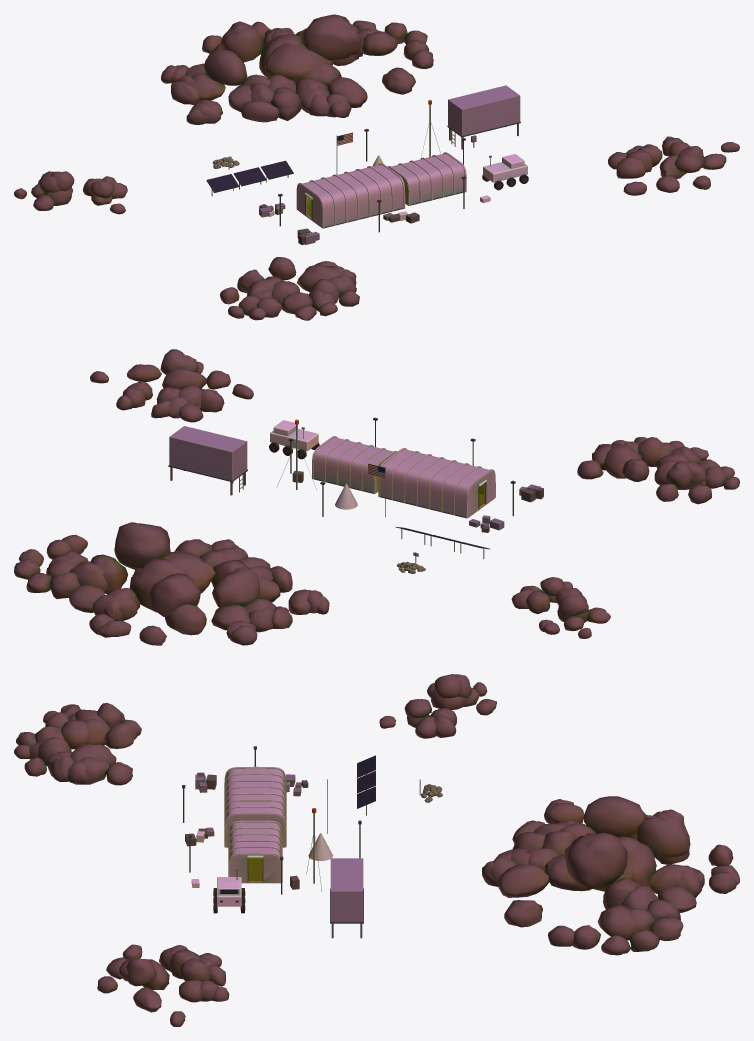
Rendered from edmunds_base.glb.
The picture shows the model from 3 angles, top to bottom: view 1: azimuth 30°, elevation 25°; view 2: azimuth 150°, elevation 25°; view 3: azimuth 270°, elevation 25°; orthographic projection. The views are drawn at different scales.
Visible parts, largest first — view 1: boulders__m, edmunds_camp__m; view 2: boulders__m, edmunds_camp__m; view 3: boulders__m, edmunds_camp__m.
Boxes of the visible parts, left/top/right/bottom form: boulders__m: left=14, top=14, right=739, bottom=320; edmunds_camp__m: left=206, top=85, right=528, bottom=245; boulders__m: left=14, top=349, right=739, bottom=645; edmunds_camp__m: left=168, top=417, right=543, bottom=559; boulders__m: left=14, top=674, right=739, bottom=1026; edmunds_camp__m: left=182, top=746, right=375, bottom=938.
Bounding box in the file's own units: 61.06 × 6.9 × 55.57.
